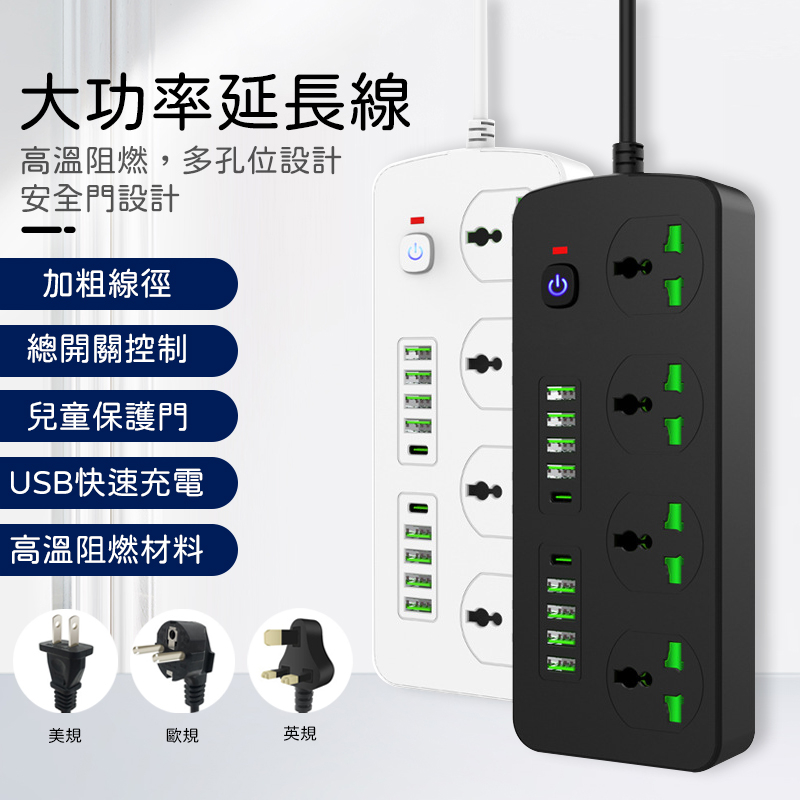socket: (509, 141, 758, 773), (381, 119, 594, 702)
